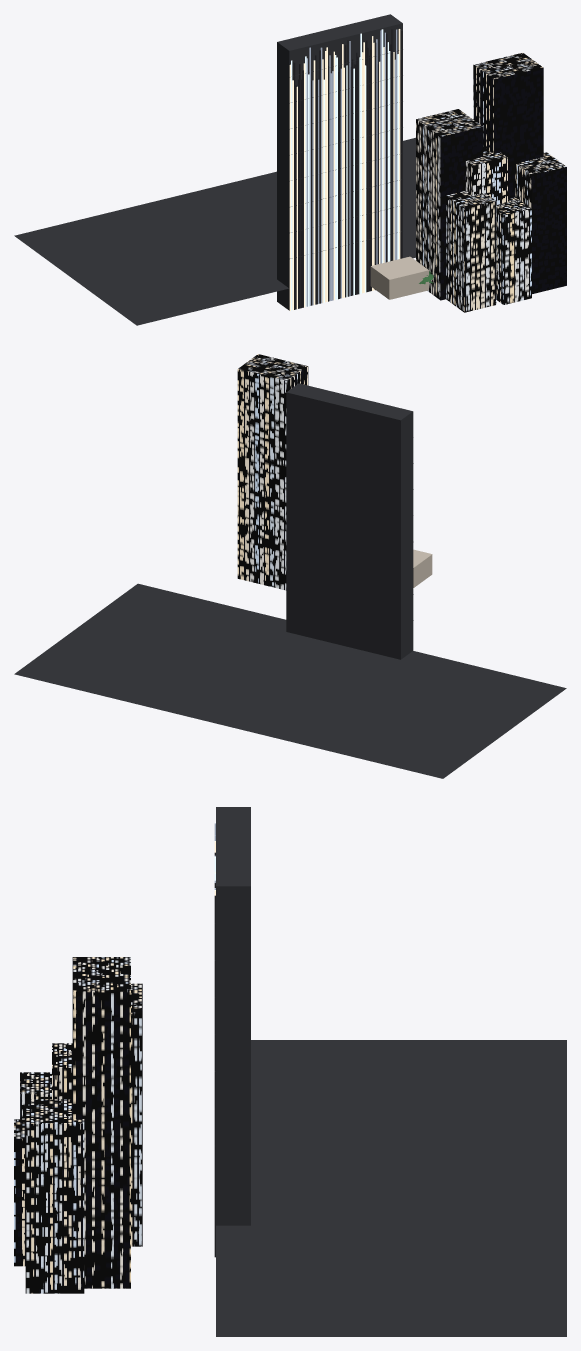
The model's file is dj-dojo.glb.
The picture shows the model from 3 angles, top to bottom: view 1: azimuth 30°, elevation 25°; view 2: azimuth 150°, elevation 25°; view 3: azimuth 270°, elevation 25°; orthographic projection. The views are drawn at different scales.
Parts seen in each view (by area): view 1: Horizon_Back, RTower_1, Tower_Body, RTower_4, RTower_0, RTower_5, RTower_3, RTower_2, Wall_Front, Louvre_41, Ceiling, Louvre_17 (+78 smaller); view 2: Horizon_Back, Tower_Body, RTower_4; view 3: Horizon_Back, RTower_4, Tower_Body, RTower_5, RTower_1, RTower_3, RTower_2, RTower_0, Louvre_79.
Part boxes in pixels (x1,y1,x2,y2): Horizon_Back: (14, 137, 415, 325); RTower_1: (416, 109, 483, 300); Tower_Body: (277, 14, 402, 310); RTower_4: (473, 52, 543, 198); RTower_0: (446, 190, 496, 312); RTower_5: (515, 152, 566, 293); RTower_3: (496, 197, 531, 304); RTower_2: (465, 146, 507, 204); Wall_Front: (389, 270, 428, 299); Louvre_41: (347, 40, 349, 296); Ceiling: (371, 257, 427, 279); Louvre_17: (313, 60, 315, 304); Horizon_Back: (14, 583, 566, 778); Tower_Body: (286, 383, 413, 659); RTower_4: (237, 354, 308, 590); Horizon_Back: (216, 1040, 566, 1336); RTower_4: (72, 957, 130, 1288); Tower_Body: (216, 807, 250, 1225); RTower_5: (25, 1099, 84, 1293); RTower_1: (131, 983, 142, 1246); RTower_3: (14, 1119, 25, 1266); RTower_2: (52, 1043, 72, 1099); RTower_0: (20, 1072, 51, 1119); Louvre_79: (214, 895, 215, 1257).
Size of the model in its own units: 60 by 35 by 47.25.
28 materials, 6 textured.
